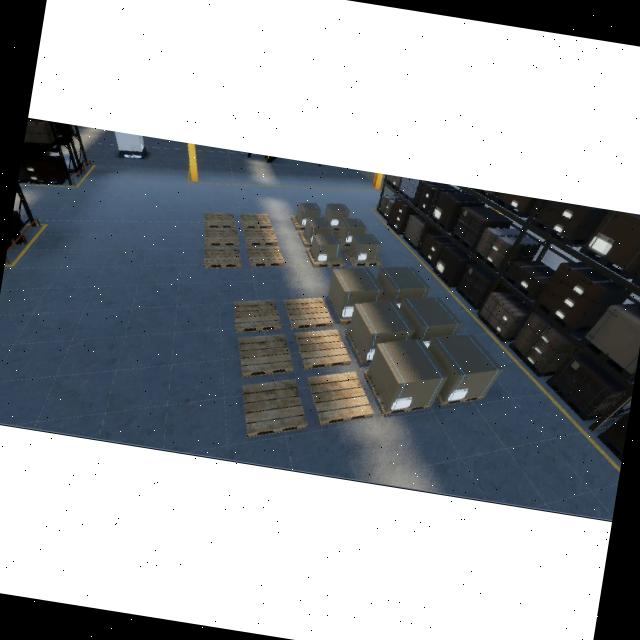wooden_pallet: (364, 370, 431, 416), (283, 298, 333, 330), (306, 248, 346, 268), (343, 247, 382, 267), (247, 247, 284, 266), (436, 394, 485, 406)
